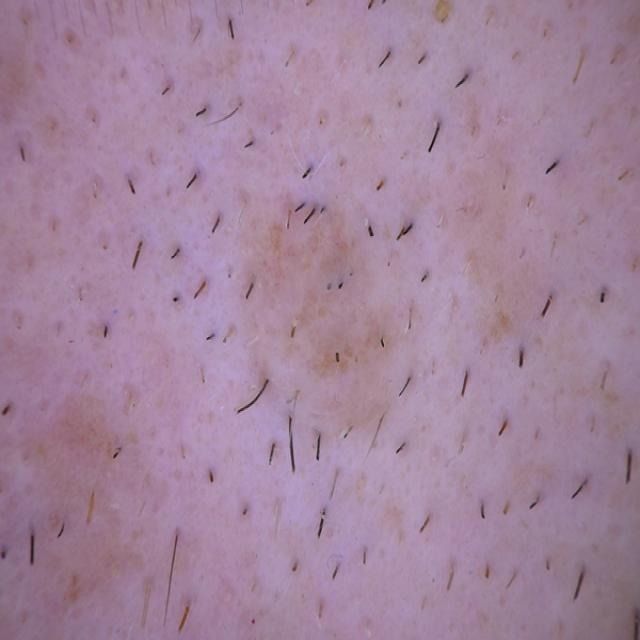NV: (240, 192, 415, 437)
